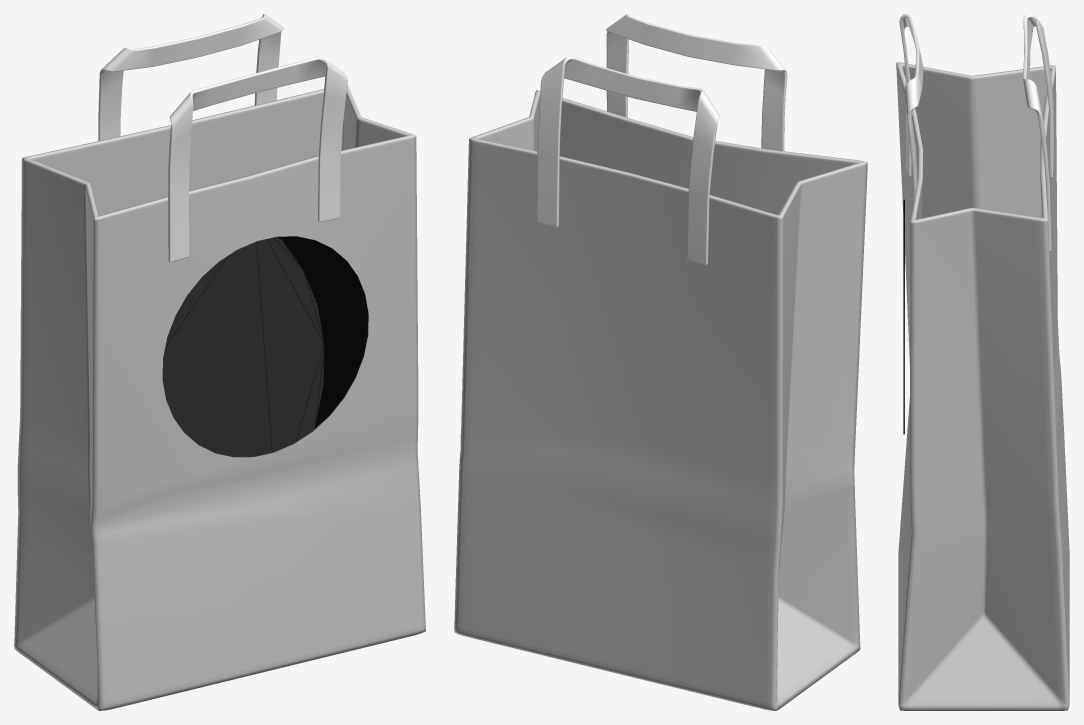
The model's file is sticker.gltf.
3 views of the same model, side by side, from view 1: azimuth 30°, elevation 25°; view 2: azimuth 150°, elevation 25°; view 3: azimuth 270°, elevation 25° (orthographic).
Visible parts, largest first — view 1: Object_4, Cylinder, Object_2, Object_3; view 2: Object_4, Object_3, Object_2; view 3: Object_4, Object_3, Object_2, Cylinder.
Boxes of the visible parts, x1,y1,x2,y2 form: Object_4: (14,85,425,710); Cylinder: (162,236,368,457); Object_2: (168,56,347,262); Object_3: (98,14,283,140); Object_4: (454,90,867,710); Object_3: (536,56,719,265); Object_2: (606,14,787,151); Object_4: (896,62,1069,710); Object_3: (1023,14,1054,251); Object_2: (899,14,923,205); Cylinder: (903,199,904,434).
Size of the model in its own units: 22.4 by 38.26 by 10.24.
4 materials, 1 textured.
